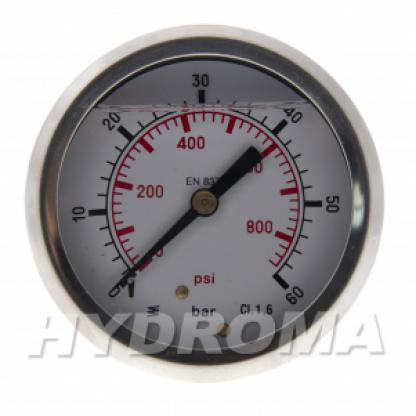needle: (116, 205, 202, 287)
